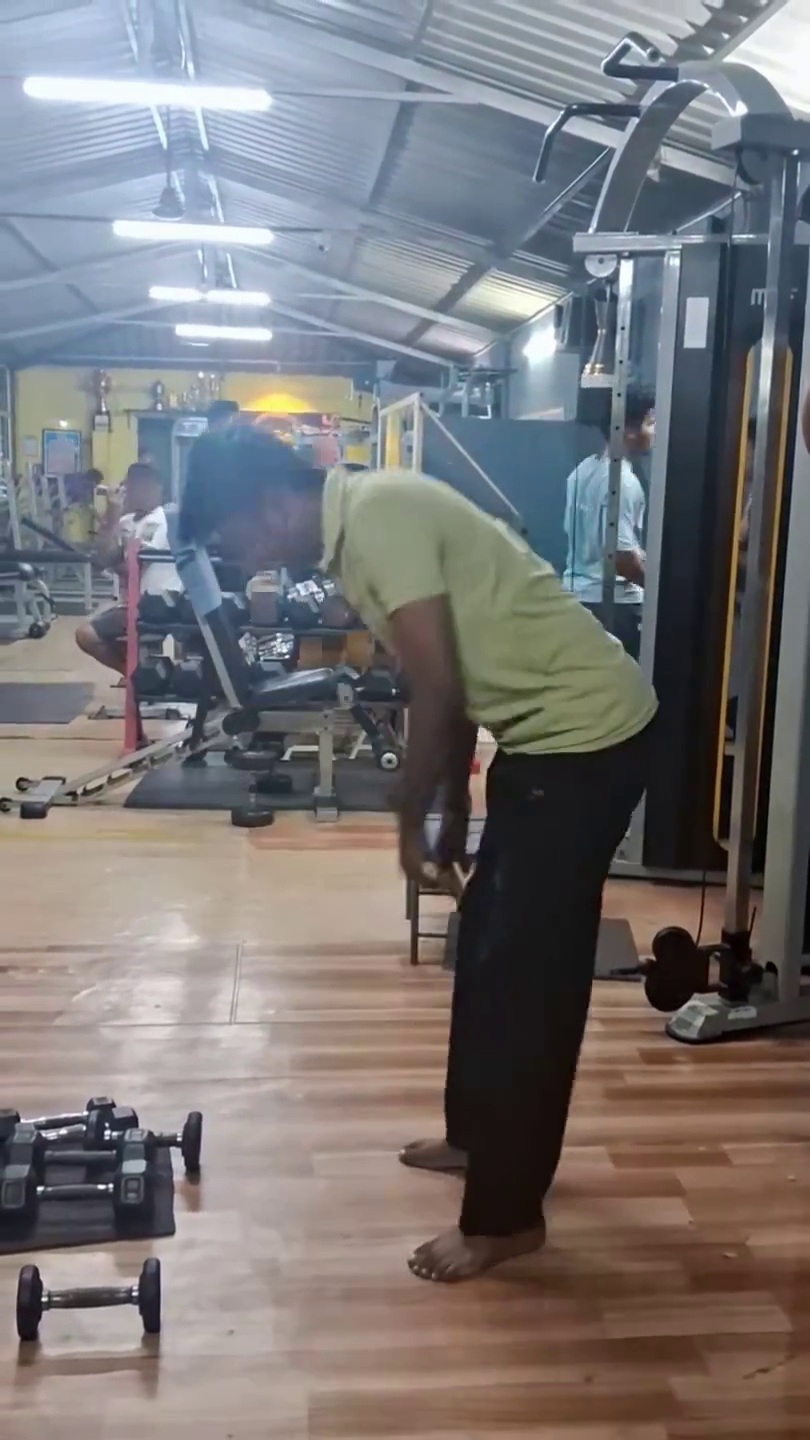squat_incorrect: (164, 412, 649, 1337)
